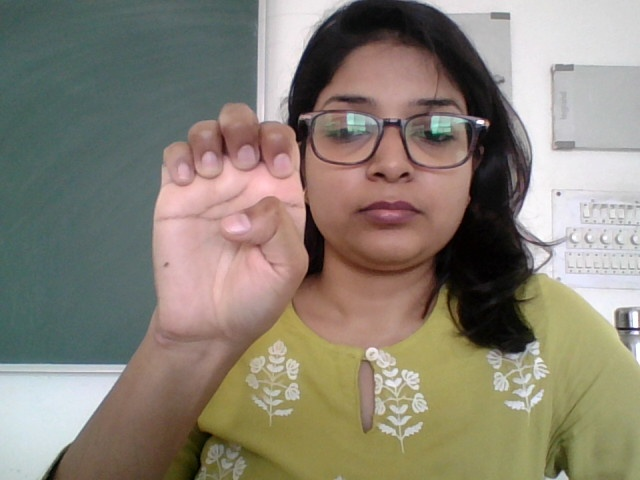E: (144, 100, 311, 353)
